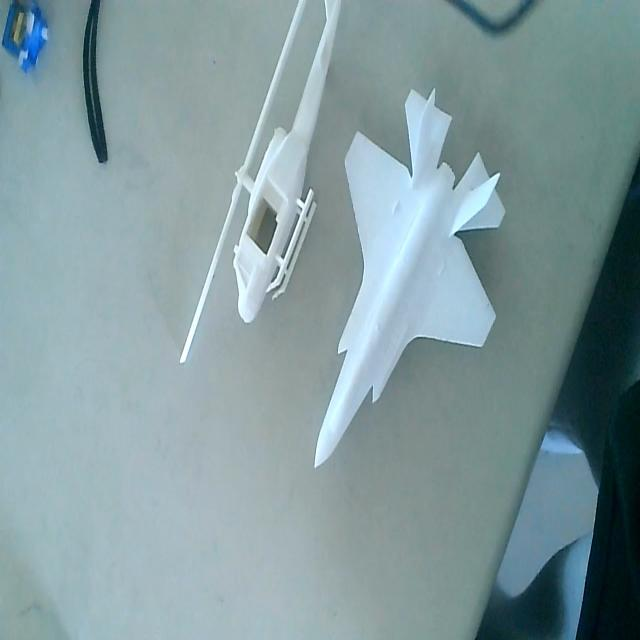Helicopter: (181, 0, 342, 371)
Jet: (314, 82, 504, 474)
